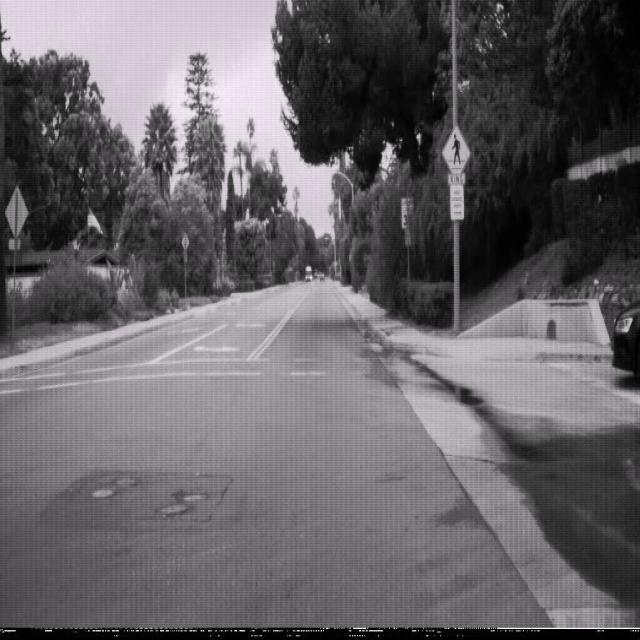pedestrianCrossing: (440, 123, 470, 184)
